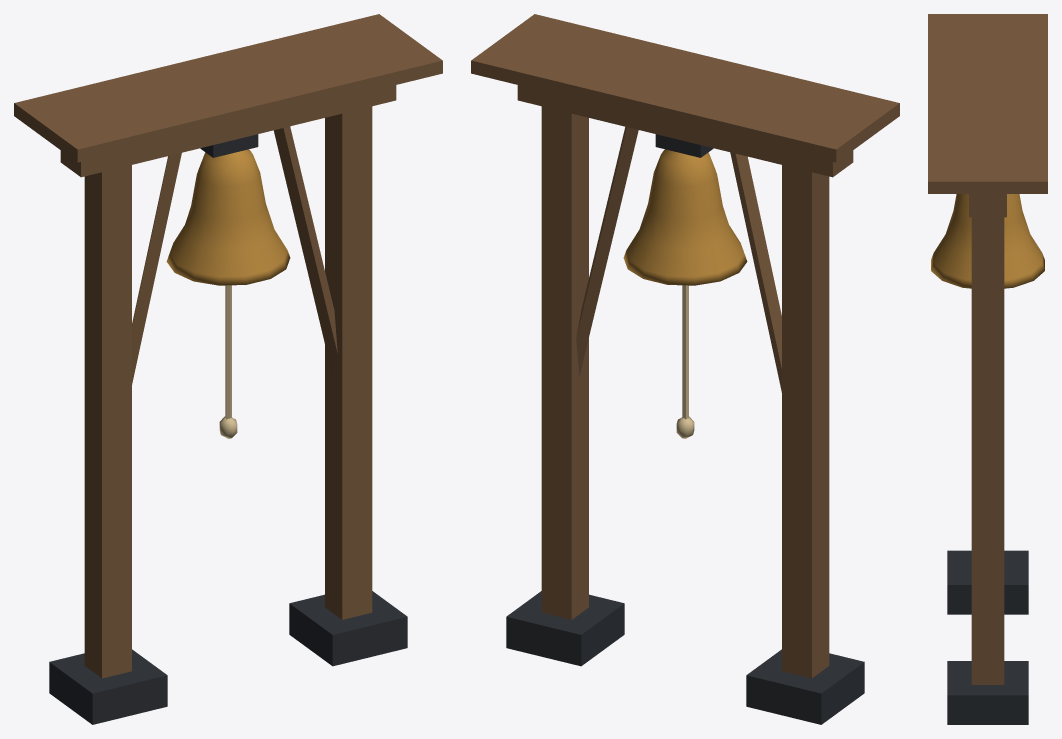
Rendered from bell.glb.
3 views of the same model, side by side, from view 1: azimuth 30°, elevation 25°; view 2: azimuth 150°, elevation 25°; view 3: azimuth 270°, elevation 25° (orthographic). The views are drawn at different scales.
Visible parts, largest first — view 1: Bell, Bell_Swing, Bell_Rope; view 2: Bell, Bell_Swing, Bell_Rope; view 3: Bell, Bell_Swing.
Part boxes in pixels (x1,y1,x2,y2): Bell: [14, 14, 442, 724]; Bell_Swing: [166, 149, 290, 285]; Bell_Rope: [219, 285, 237, 438]; Bell: [471, 14, 899, 724]; Bell_Swing: [623, 149, 747, 285]; Bell_Rope: [676, 285, 694, 438]; Bell: [928, 14, 1047, 724]; Bell_Swing: [931, 194, 1044, 288].
Size of the model in its own units: 1.46 by 2.25 by 0.44.
